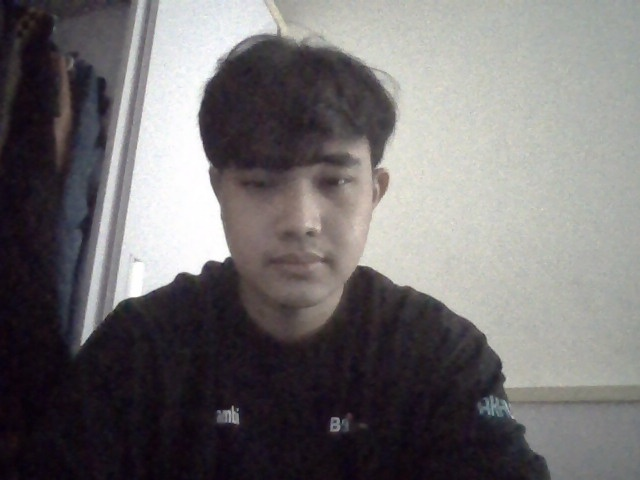Drowsy: (186, 17, 412, 381)
